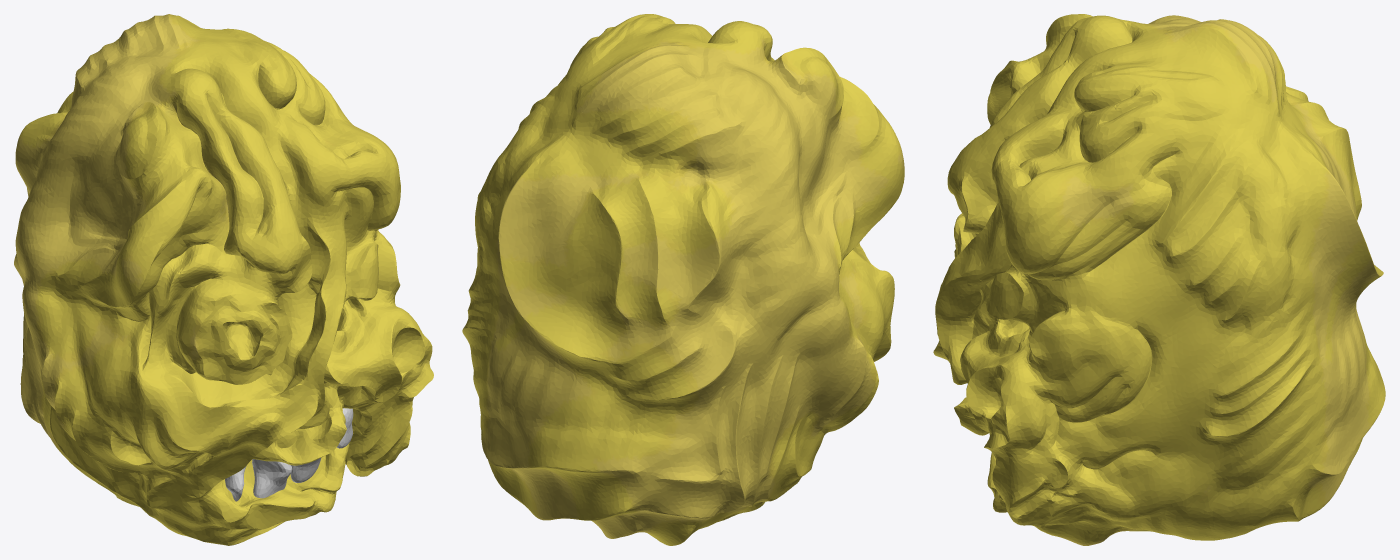
The model's file is Gargoyle_01_LOD1.glb.
3 renders of one model, left to right at view 1: azimuth 30°, elevation 25°; view 2: azimuth 150°, elevation 25°; view 3: azimuth 270°, elevation 25°, orthographic. The views are drawn at different scales.
Parts seen in each view (by area): view 1: Gargoyle_01; view 2: Gargoyle_01; view 3: Gargoyle_01.
Part boxes in pixels (x1=…): Gargoyle_01: x1=14, y1=14, x2=433, y2=545; Gargoyle_01: x1=462, y1=14, x2=904, y2=545; Gargoyle_01: x1=933, y1=14, x2=1385, y2=545.
Size of the model in its own units: 2.42 by 3.28 by 2.7.
